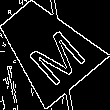M_NW: (12, 14, 82, 82)
